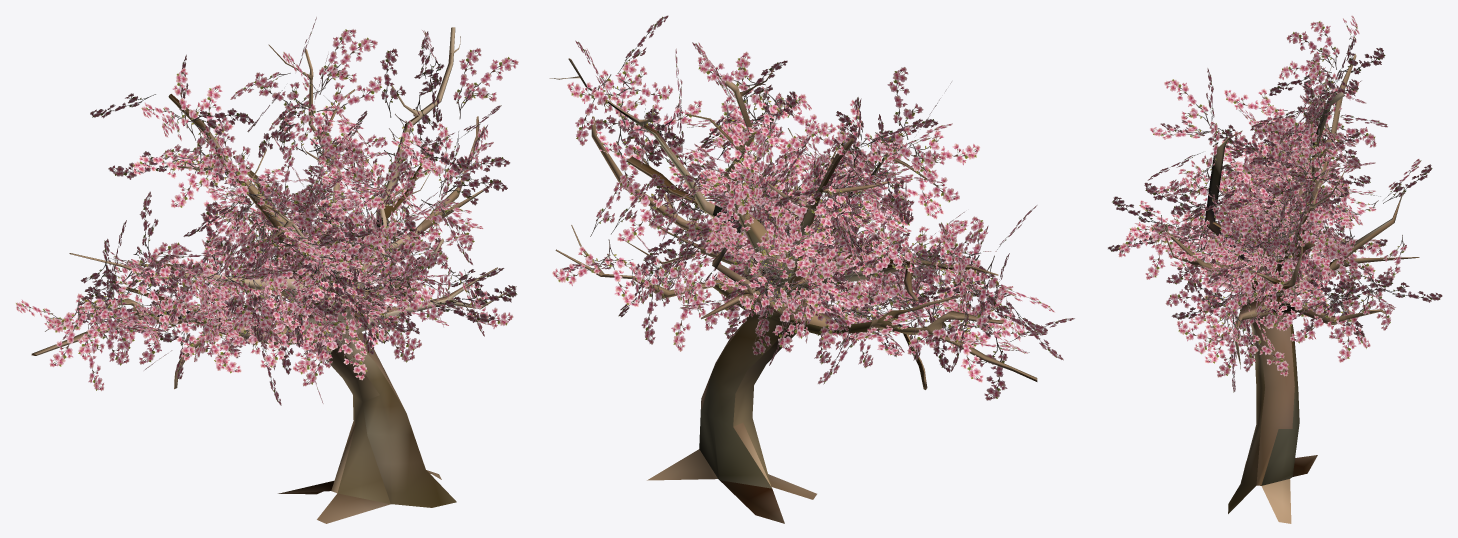
Rendered from CherryBlossomTreeCopyOcculusion.fbx.
The picture shows the model from 3 angles, left to right: view 1: azimuth 30°, elevation 25°; view 2: azimuth 150°, elevation 25°; view 3: azimuth 270°, elevation 25°; orthographic projection. The views are drawn at different scales.
Parts seen in each view (by area): view 1: cherry blossom branch transparent.001, Cube; view 2: cherry blossom branch transparent.001, Cube; view 3: cherry blossom branch transparent.001, Cube.
Boxes of the visible parts, <box> form: cherry blossom branch transparent.001: <box>16,17,518,405</box>; Cube: <box>31,27,516,523</box>; cherry blossom branch transparent.001: <box>552,15,1074,400</box>; Cube: <box>549,58,1037,523</box>; cherry blossom branch transparent.001: <box>1108,15,1442,392</box>; Cube: <box>1151,54,1419,523</box>.
Bounding box in the file's own units: 1217 × 1070 × 805.
